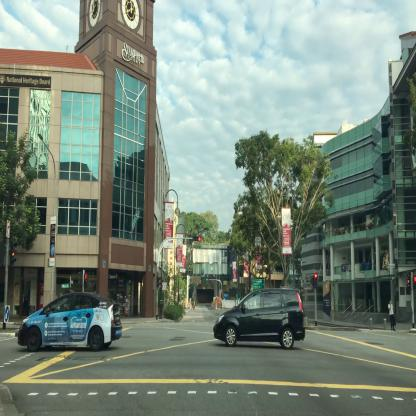red_traffic_light: (314, 273, 317, 287), (192, 236, 200, 241)
